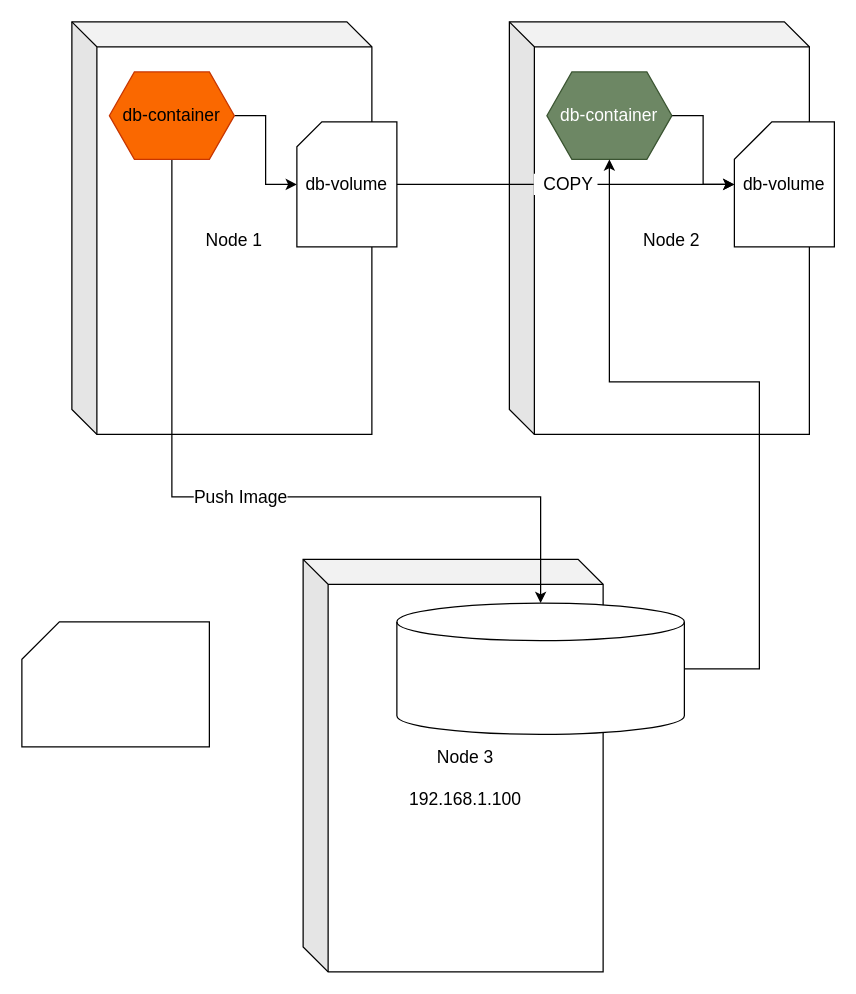
Image size: 856x994. Some labels were removed from this diagram. Here are the shapes that lost their labels. From the top down, the centre of each, then its label:
At (x=115, y=684): "db-volume EXTERNAL".
At (x=540, y=668): "private registry".
